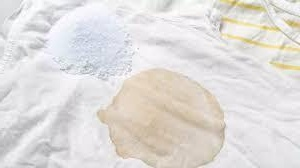coffee: (97, 69, 227, 168)
